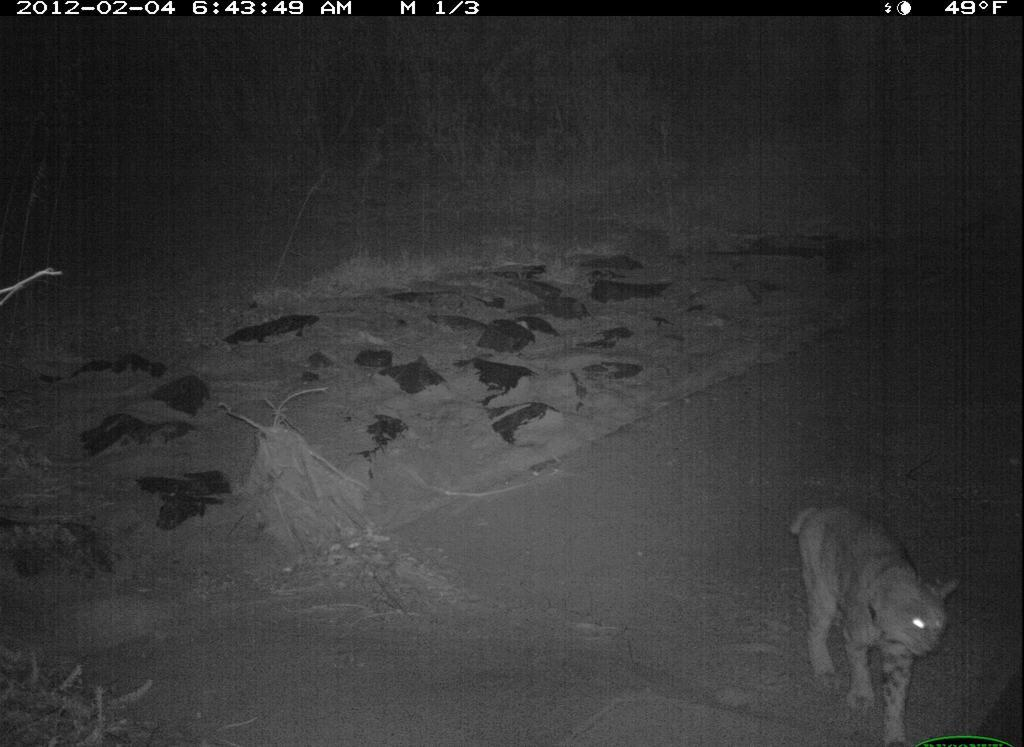bobcat: (781, 488, 967, 744)
